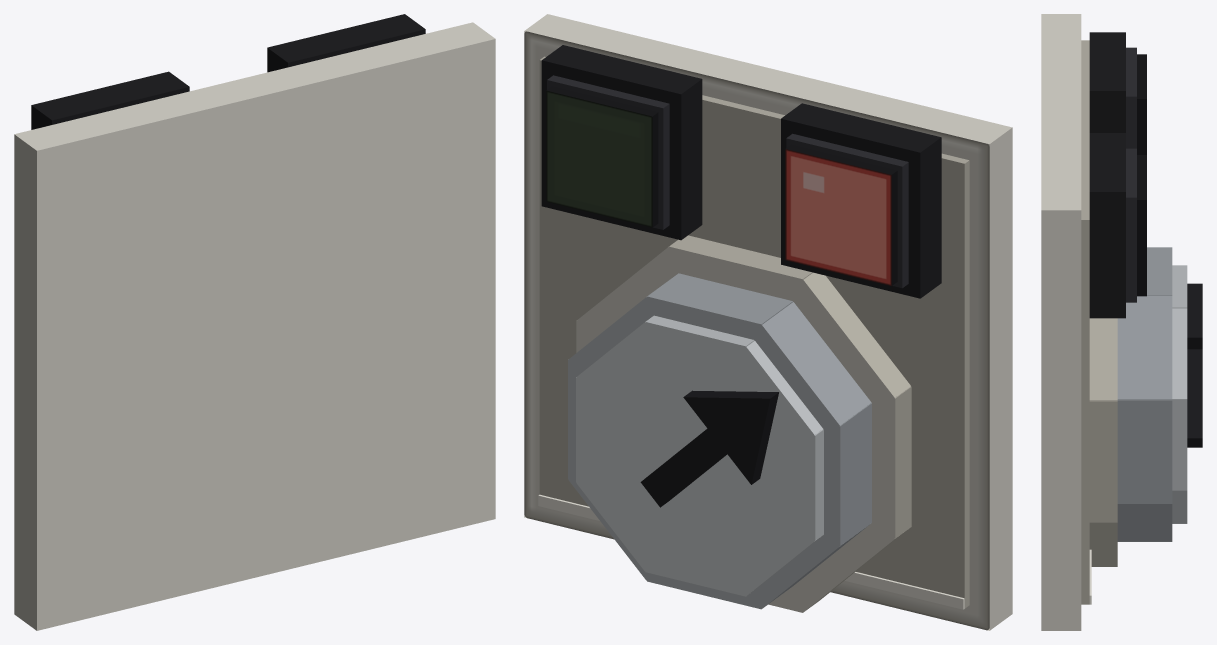
Rendered from knob_switch_close.obj.
3 renders of one model, left to right at view 1: azimuth 30°, elevation 25°; view 2: azimuth 150°, elevation 25°; view 3: azimuth 270°, elevation 25°, orthographic. The views are drawn at different scales.
Visible parts, largest first — view 1: Panel, LampRed, LampGreen; view 2: Panel, Knob, LampGreen, LampRed; view 3: Panel, Knob, LampGreen, LampRed.
Part boxes in pixels (x1,y1,x2,y2): Panel: (14,22,495,630); LampRed: (31,71,189,129); LampGreen: (267,14,425,72); Panel: (524,14,1012,630); Knob: (568,235,911,612); LampGreen: (541,45,702,240); LampRed: (781,103,941,298); Panel: (1041,14,1091,630); Knob: (1089,247,1202,566); LampGreen: (1089,133,1146,318); LampRed: (1089,32,1146,154).
Size of the model in its own units: 0.875 by 0.8875 by 0.3038.
1 material, 1 textured.
